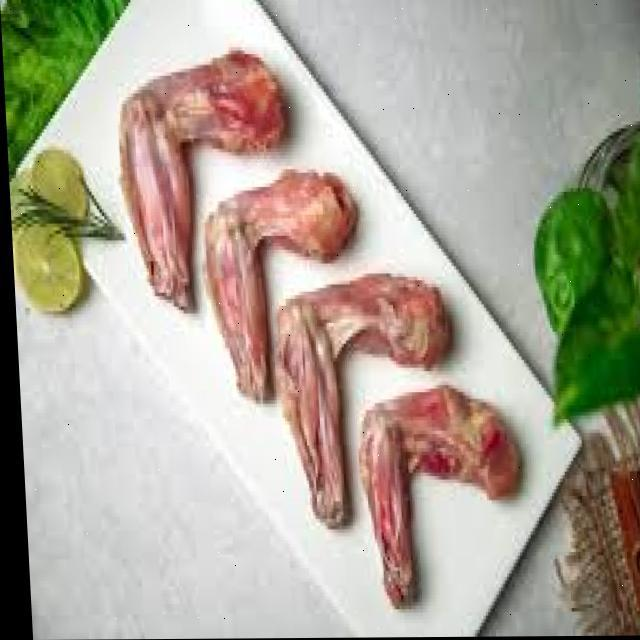wing: (99, 33, 291, 290), (273, 264, 433, 514), (194, 148, 338, 386), (353, 375, 507, 586)
